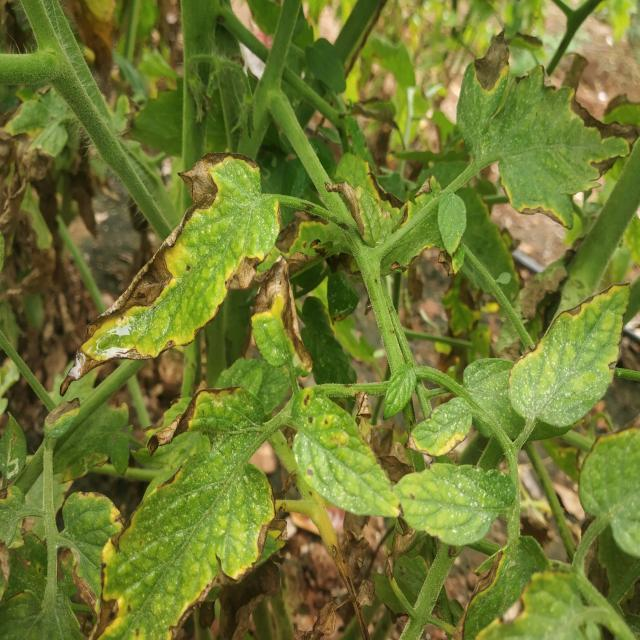Tomato mosaic virus leaf: (88, 386, 277, 638), (454, 27, 640, 230), (119, 148, 282, 364), (506, 278, 630, 428), (288, 382, 408, 522), (246, 252, 316, 380)
